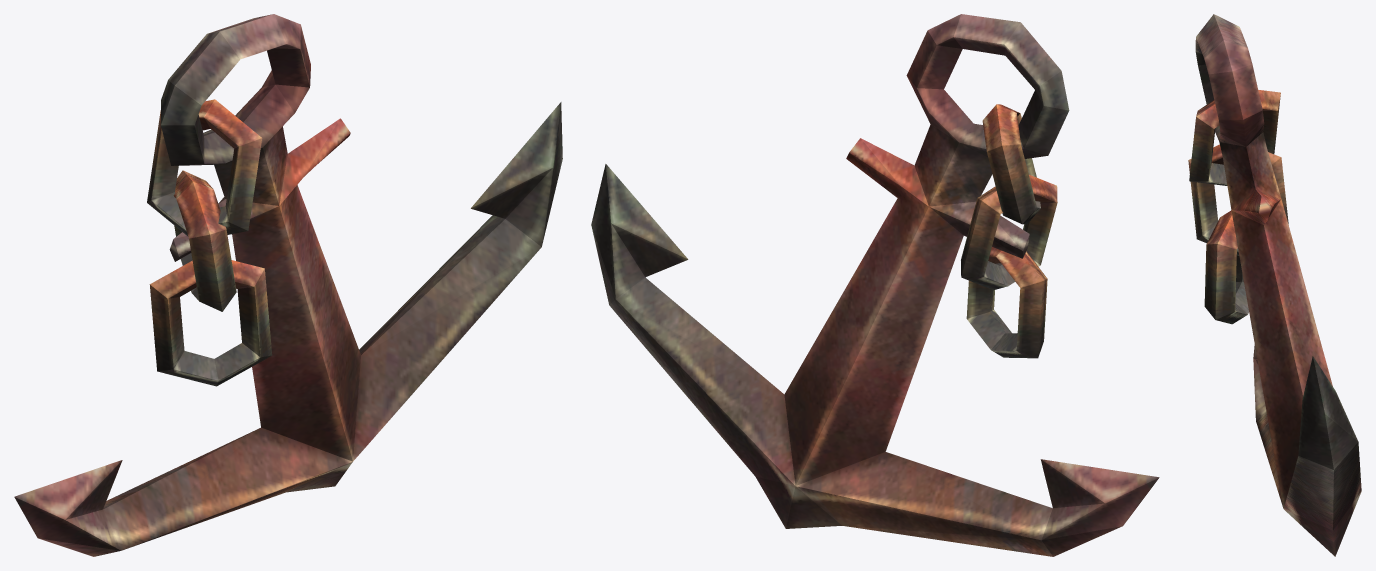
File: Whale_hallowAnchor.obj
The picture shows the model from 3 angles, left to right: view 1: azimuth 30°, elevation 25°; view 2: azimuth 150°, elevation 25°; view 3: azimuth 270°, elevation 25°; orthographic projection. The views are drawn at different scales.
Visible parts, largest first — view 1: Whale_hallowAnchor_tri; view 2: Whale_hallowAnchor_tri; view 3: Whale_hallowAnchor_tri.
Boxes of the visible parts, x1,y1,x2,y2 form: Whale_hallowAnchor_tri: (14, 14, 562, 556); Whale_hallowAnchor_tri: (591, 14, 1159, 556); Whale_hallowAnchor_tri: (1188, 14, 1361, 556).
Bounding box in the file's own units: 1.11 × 0.9952 × 0.3356.
1 material, 1 textured.
